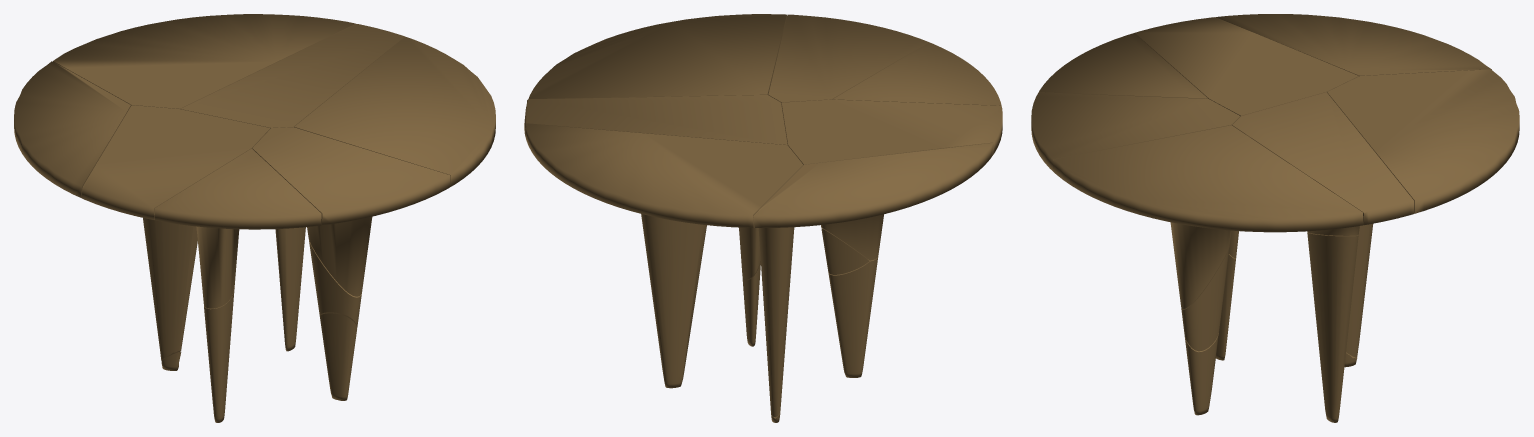
File: Broken_TableBroken.fbx
The picture shows the model from 3 angles, left to right: view 1: azimuth 30°, elevation 25°; view 2: azimuth 150°, elevation 25°; view 3: azimuth 270°, elevation 25°; orthographic projection. The views are drawn at different scales.
Parts seen in each view (by area): view 1: Table_cell.003, Table_cell.008, Table_cell.004, Table_cell.002, Table_cell.006, Table_cell.007, Table_cell.009, Table_cell.005, Table_cell, Table_cell.001, Table_cell.011, Table_cell.010; view 2: Table_cell.008, Table_cell.003, Table_cell.004, Table_cell.007, Table_cell.006, Table_cell.002, Table_cell, Table_cell.009, Table_cell.005, Table_cell.001, Table_cell.013, Table_cell.011 (+1 smaller); view 3: Table_cell.003, Table_cell.008, Table_cell.004, Table_cell.006, Table_cell.002, Table_cell.007, Table_cell.009, Table_cell, Table_cell.010, Table_cell.005, Table_cell.011, Table_cell.001.
Boxes of the visible parts, x1,y1,x2,y2 form: Table_cell.003: [294, 36, 495, 296]; Table_cell.008: [53, 14, 355, 108]; Table_cell.004: [81, 105, 270, 308]; Table_cell.002: [252, 127, 450, 225]; Table_cell.006: [180, 24, 404, 128]; Table_cell.007: [14, 61, 130, 197]; Table_cell.009: [154, 148, 321, 229]; Table_cell.005: [143, 218, 197, 360]; Table_cell: [275, 227, 305, 351]; Table_cell.001: [204, 296, 233, 422]; Table_cell.011: [320, 313, 356, 400]; Table_cell.010: [309, 240, 361, 327]; Table_cell.008: [525, 123, 803, 227]; Table_cell.003: [528, 14, 786, 99]; Table_cell.004: [781, 99, 1002, 260]; Table_cell.007: [753, 143, 993, 227]; Table_cell.006: [524, 95, 787, 145]; Table_cell.002: [768, 14, 928, 104]; Table_cell: [641, 214, 706, 388]; Table_cell.009: [832, 42, 1001, 105]; Table_cell.005: [758, 227, 794, 417]; Table_cell.001: [828, 257, 878, 377]; Table_cell.013: [821, 228, 869, 274]; Table_cell.011: [742, 261, 760, 346]; Table_cell.003: [1053, 125, 1363, 308]; Table_cell.008: [1327, 69, 1519, 213]; Table_cell.004: [1135, 17, 1358, 116]; Table_cell.006: [1232, 92, 1414, 235]; Table_cell.002: [1031, 92, 1240, 171]; Table_cell.007: [1216, 14, 1491, 76]; Table_cell.009: [1038, 33, 1208, 98]; Table_cell: [1307, 232, 1358, 422]; Table_cell.010: [1181, 246, 1229, 351]; Table_cell.005: [1346, 223, 1373, 357]; Table_cell.011: [1184, 333, 1218, 415]; Table_cell.001: [1216, 254, 1235, 360].
Bounding box in the file's own units: 143 × 88.12 × 143.
